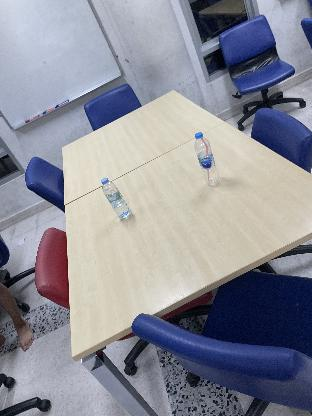Plastic Bottle: (194, 132, 221, 188), (100, 176, 132, 222)
